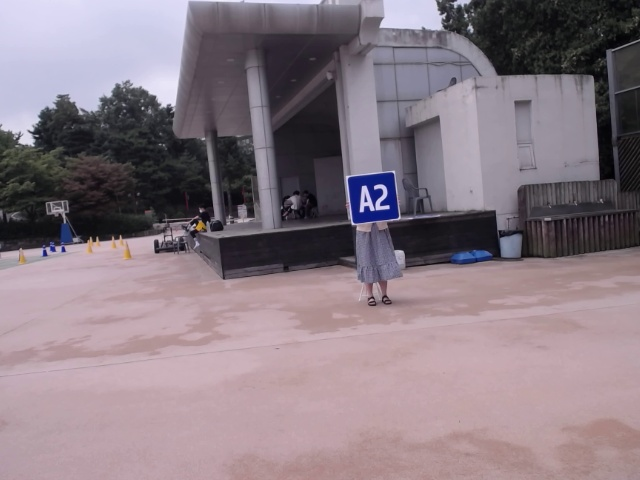delivery_a2: (346, 172, 400, 226)
